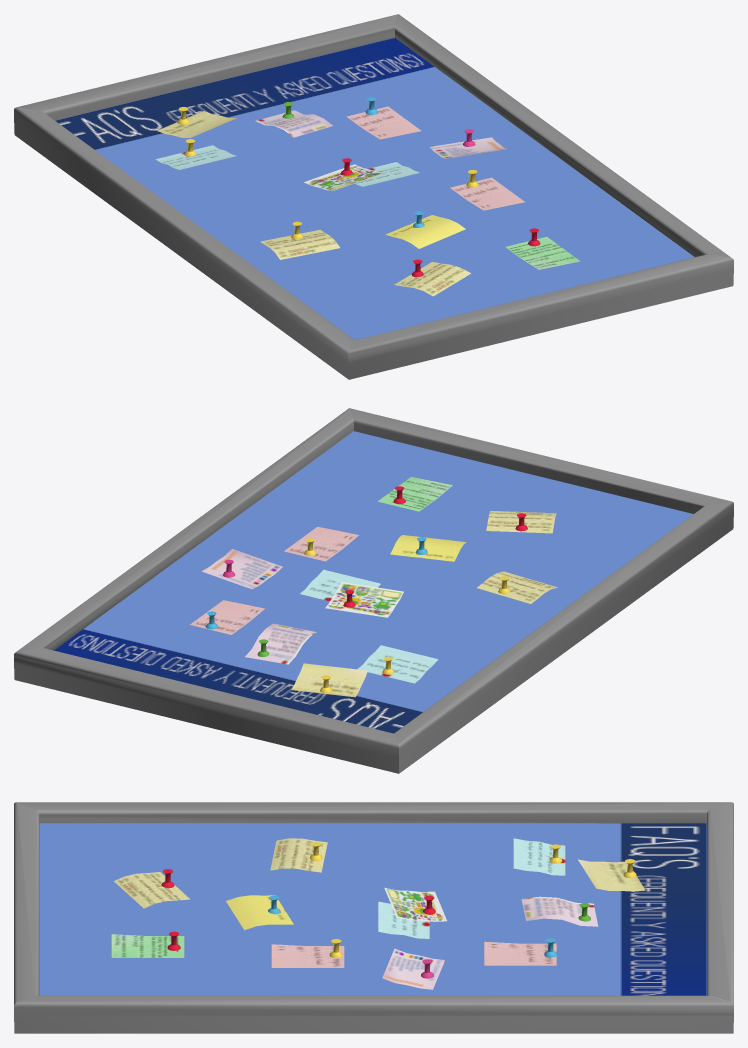
File: Poster04_6.FBX
3 renders of one model, top to bottom at view 1: azimuth 30°, elevation 25°; view 2: azimuth 150°, elevation 25°; view 3: azimuth 270°, elevation 25°, orthographic. The views are drawn at different scales.
Parts seen in each view (by area): view 1: Poster04_6; view 2: Poster04_6; view 3: Poster04_6.
Part boxes in pixels (x1=…): Poster04_6: x1=14, y1=14, x2=733, y2=379; Poster04_6: x1=14, y1=408, x2=733, y2=773; Poster04_6: x1=14, y1=802, x2=733, y2=1033.
Size of the model in its own units: 137 by 10.78 by 206.
